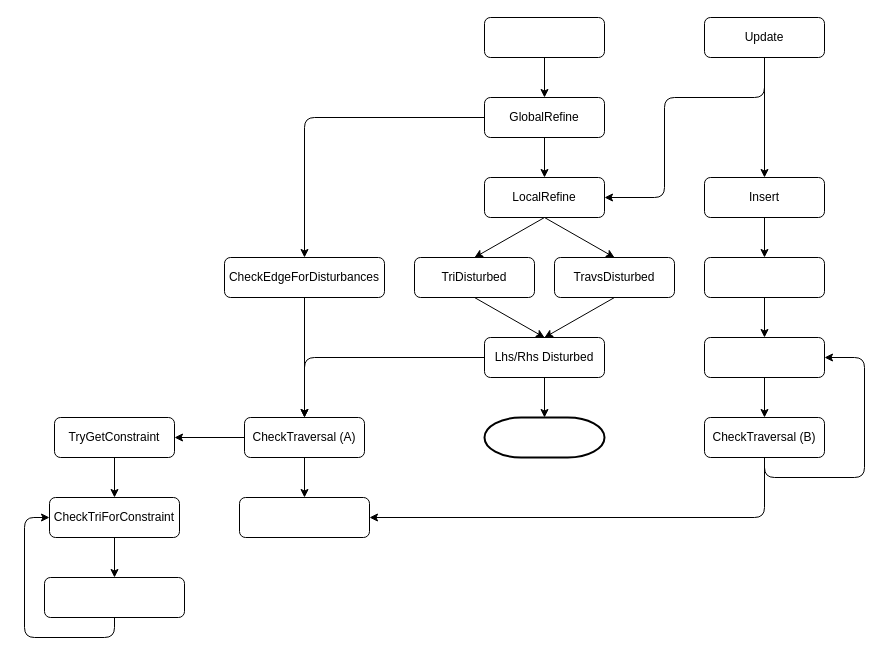
The diagram is 890 pixels wide and 663 high, and some of its shapes have lost their labels. The shapes that lost their labels are listed below. From the top down, each one's centre as x and y in pixels, then its label:
the point at 544,37: Load
the point at 764,277: SearchDisturbances
the point at 764,357: Propagate ↺
the point at 544,437: Refine Constraint
the point at 304,517: TryGetDisturbance ↺
the point at 114,597: CheckEdgeForContraint
